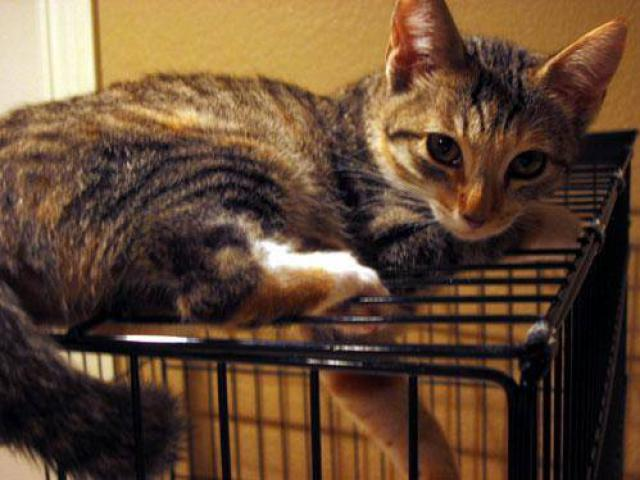cat: (5, 6, 639, 398)
